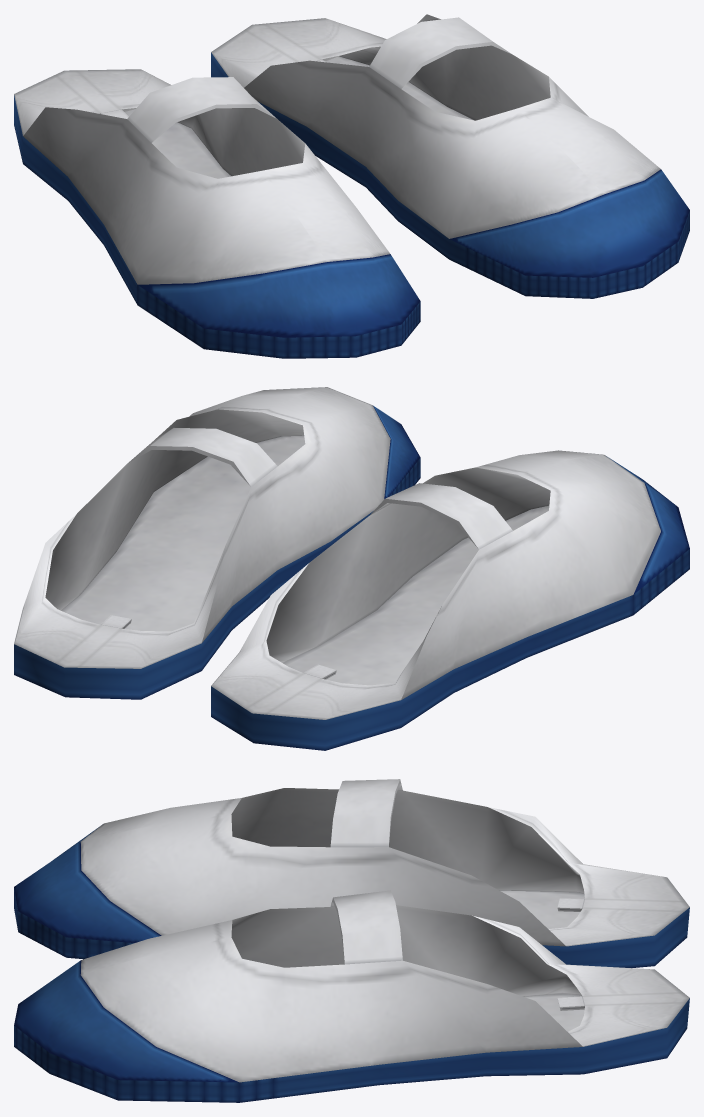
The model's file is set_indoorshoes_04_b.fbx.
3 renders of one model, top to bottom at view 1: azimuth 30°, elevation 25°; view 2: azimuth 150°, elevation 25°; view 3: azimuth 270°, elevation 25°, orthographic.
Parts seen in each view (by area): view 1: indoorshoes_04_b_L, indoorshoes_04_b_R; view 2: indoorshoes_04_b_R, indoorshoes_04_b_L; view 3: indoorshoes_04_b_L, indoorshoes_04_b_R.
Part boxes in pixels (x1=…): indoorshoes_04_b_L: x1=211, y1=14, x2=689, y2=298; indoorshoes_04_b_R: x1=14, y1=69, x2=420, y2=358; indoorshoes_04_b_R: x1=211, y1=450, x2=689, y2=750; indoorshoes_04_b_L: x1=14, y1=387, x2=420, y2=699; indoorshoes_04_b_L: x1=14, y1=890, x2=689, y2=1102; indoorshoes_04_b_R: x1=14, y1=779, x2=689, y2=967.
Bounding box in the file's own units: 21.31 × 5.65 × 25.41.
